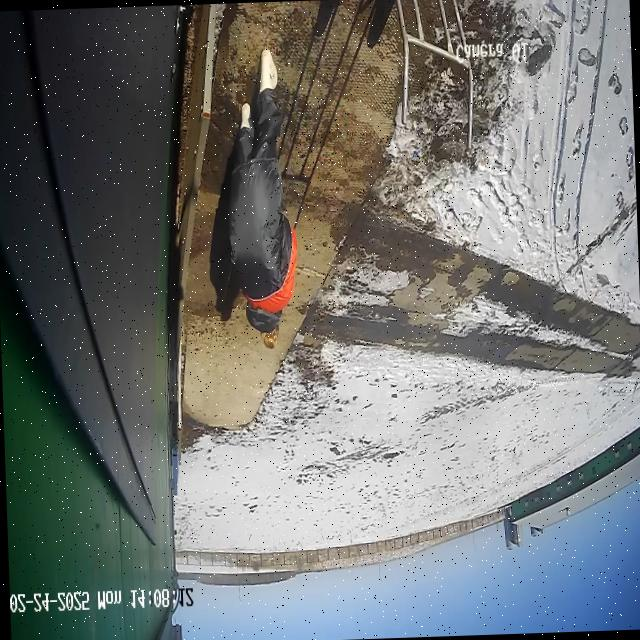Red uniform: (220, 49, 297, 348)
